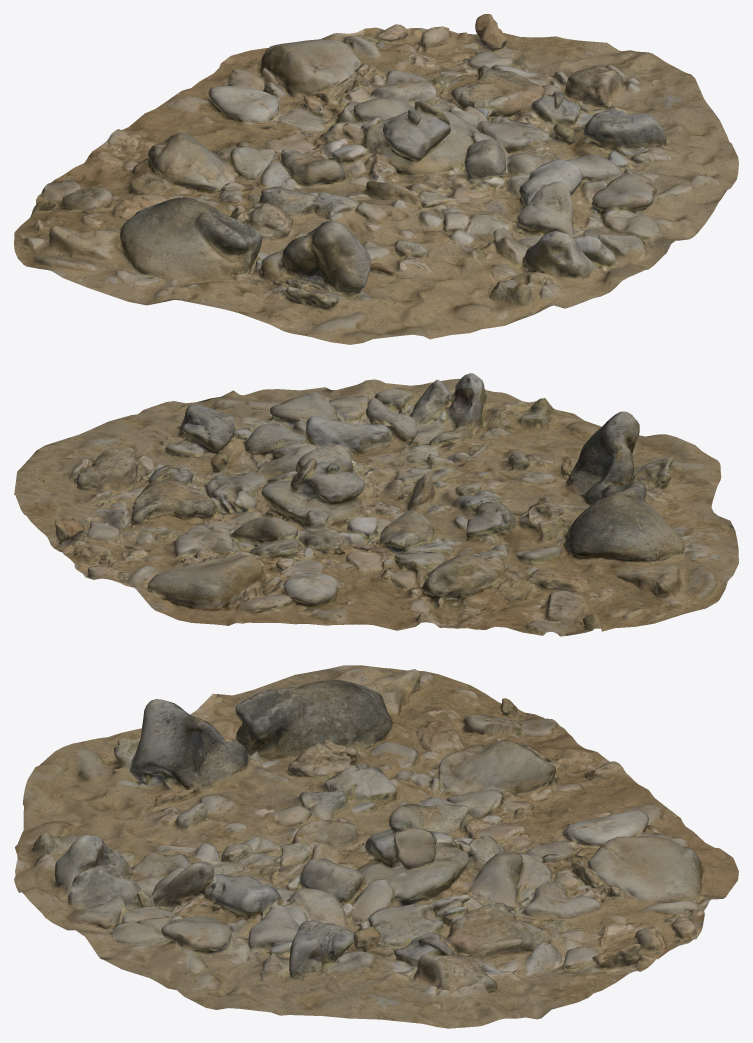
The model's file is sand_rocks_small_01.glb.
The picture shows the model from 3 angles, top to bottom: view 1: azimuth 30°, elevation 25°; view 2: azimuth 150°, elevation 25°; view 3: azimuth 270°, elevation 25°; orthographic projection. The views are drawn at different scales.
Parts seen in each view (by area): view 1: sand_rocks_small_01_LOD0; view 2: sand_rocks_small_01_LOD0; view 3: sand_rocks_small_01_LOD0.
Part boxes in pixels (x1,y1,x2,y2): sand_rocks_small_01_LOD0: (14,14,738,344); sand_rocks_small_01_LOD0: (14,373,738,636); sand_rocks_small_01_LOD0: (14,665,738,1028).
Size of the model in its own units: 2 by 0.2312 by 1.68.
Materials: 1 (1 with a texture image).
